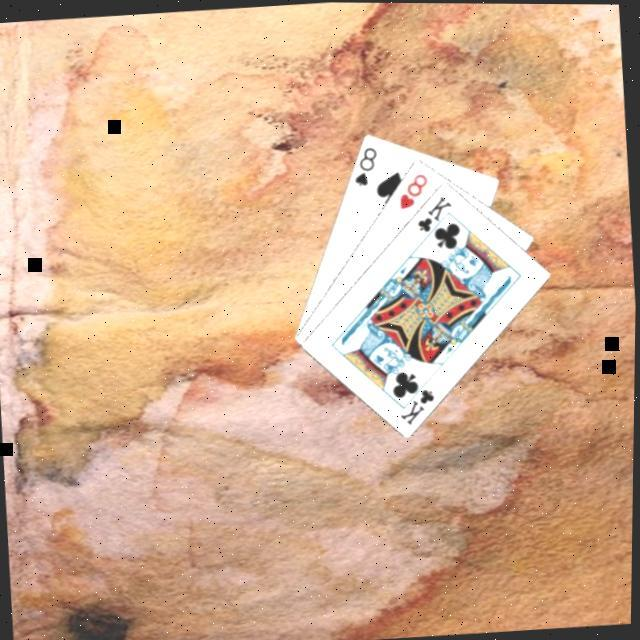8H: (392, 167, 430, 209)
8S: (346, 140, 381, 188)
KC: (410, 188, 456, 241), (393, 372, 439, 425)
